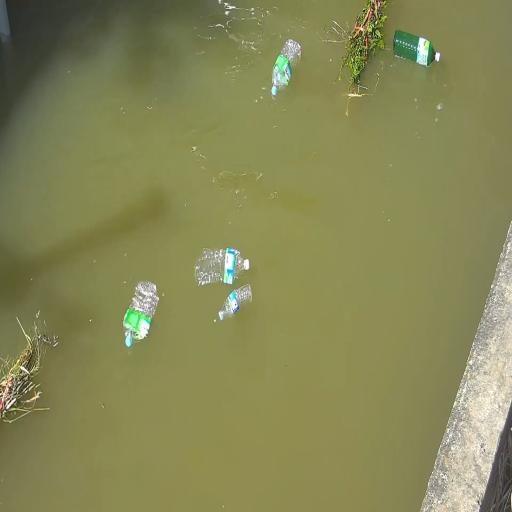plastic: (390, 22, 447, 75), (123, 279, 162, 348), (271, 41, 313, 104), (191, 240, 251, 284), (215, 280, 256, 319)
twig: (334, 0, 390, 91), (0, 327, 47, 423)
